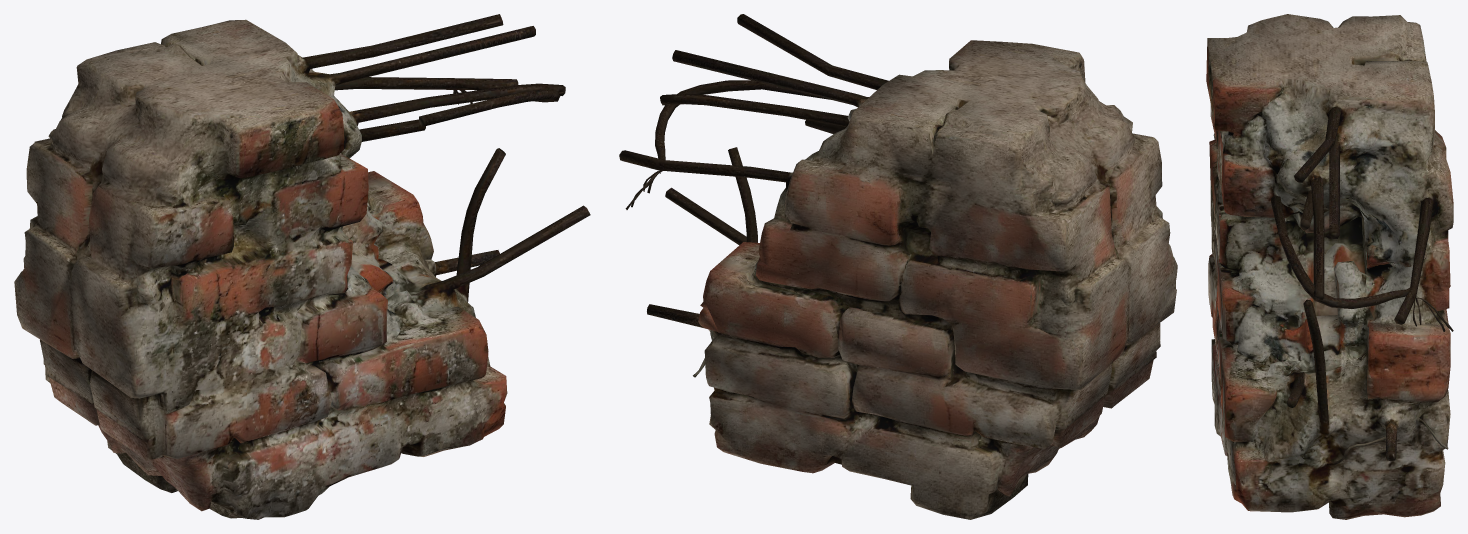
File: selected.glb
3 renders of one model, left to right at view 1: azimuth 30°, elevation 25°; view 2: azimuth 150°, elevation 25°; view 3: azimuth 270°, elevation 25°, orthographic. The views are drawn at different scales.
Parts seen in each view (by area): view 1: tripo_node_5de5aab0-ecf9-4f53-82ae-3920c726f79f; view 2: tripo_node_5de5aab0-ecf9-4f53-82ae-3920c726f79f; view 3: tripo_node_5de5aab0-ecf9-4f53-82ae-3920c726f79f.
Boxes of the visible parts, bbox=[...] form: tripo_node_5de5aab0-ecf9-4f53-82ae-3920c726f79f: bbox=[14, 14, 590, 519]; tripo_node_5de5aab0-ecf9-4f53-82ae-3920c726f79f: bbox=[619, 14, 1177, 519]; tripo_node_5de5aab0-ecf9-4f53-82ae-3920c726f79f: bbox=[1206, 14, 1453, 519].
Bounding box in the file's own units: 0.998 × 0.7832 × 0.4629.
1 material, 1 textured.
